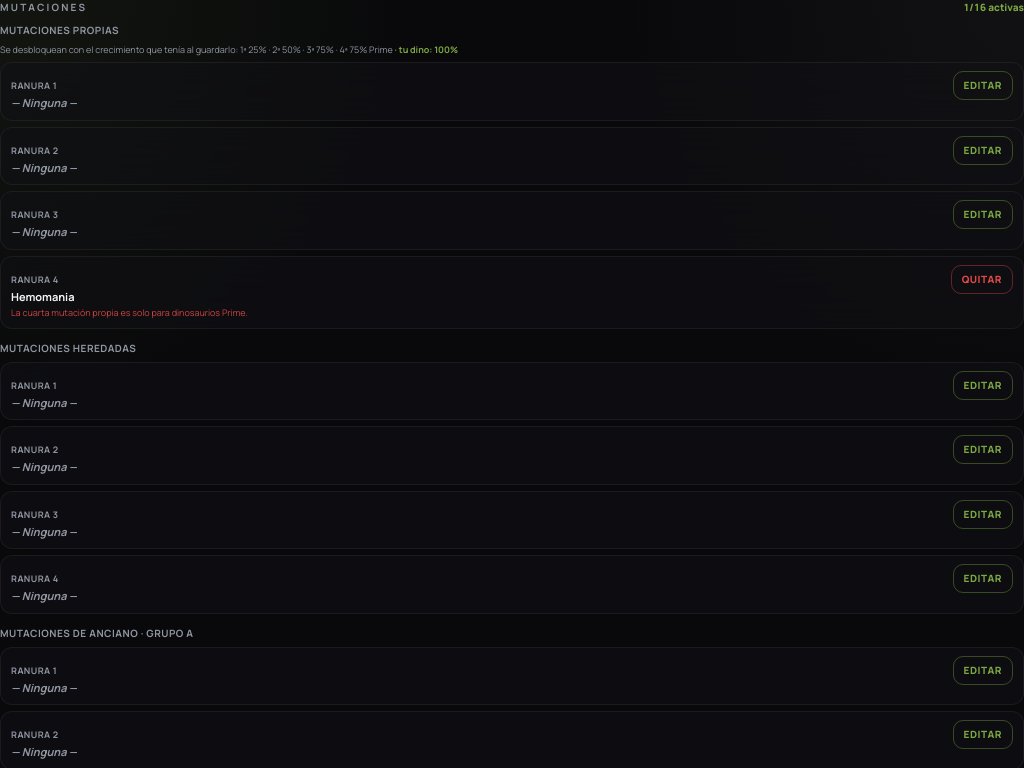
Test: removing a mutation from a closed slot asks first, on a control of its own › a double press arms and then backs out, and removes nothing
Click the button with test id "mutation-edit-n4" at (982, 279), box [951,265,1013,294]
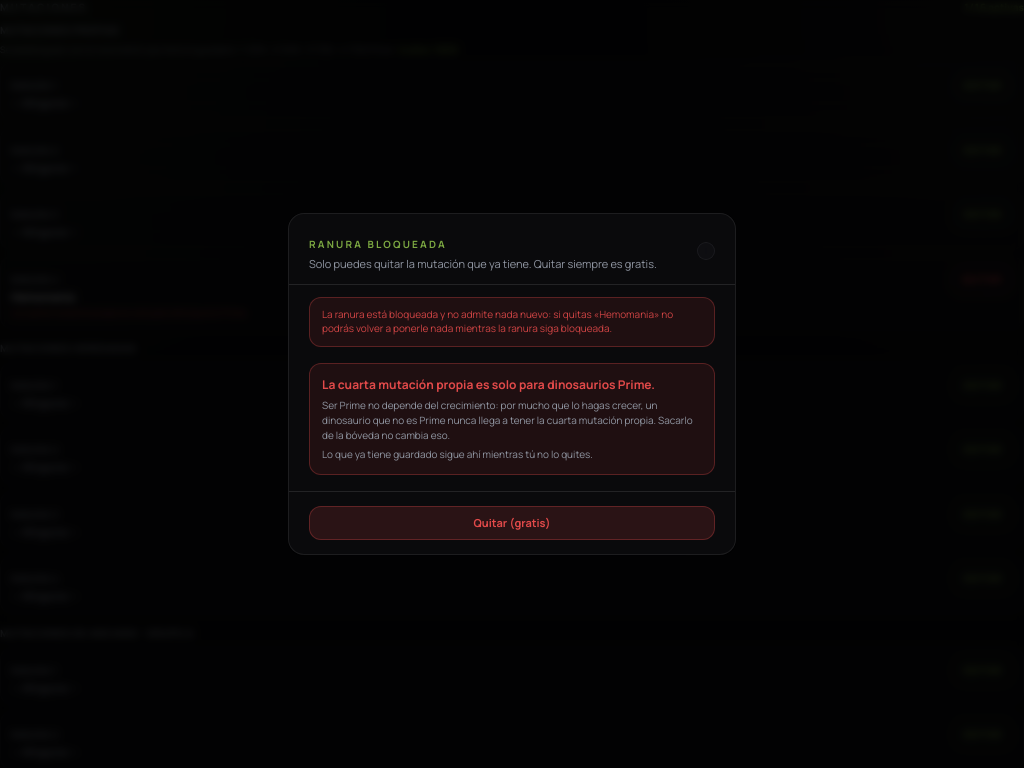
Click the button with test id "mutation-picker-clear" at (512, 523), box [309,506,715,540]
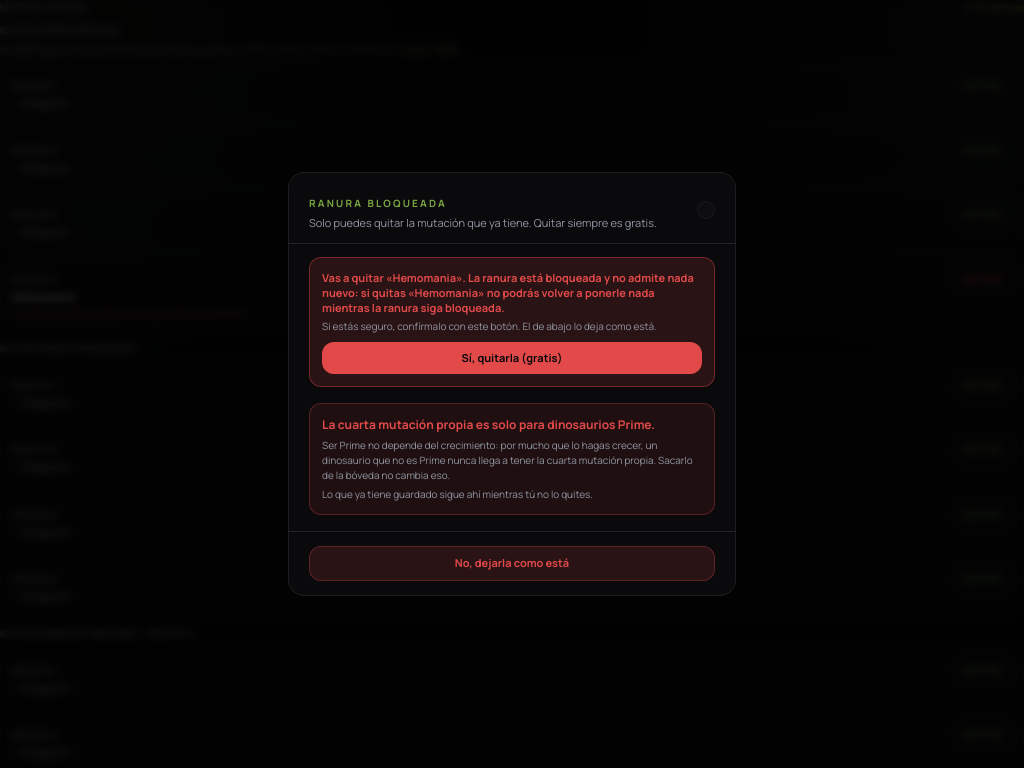
Expected: the element with test id "mutation-clear-warning" is shown, [309,257,715,388]
Click the button with test id "mutation-picker-clear" at (512, 564), box [309,546,715,581]
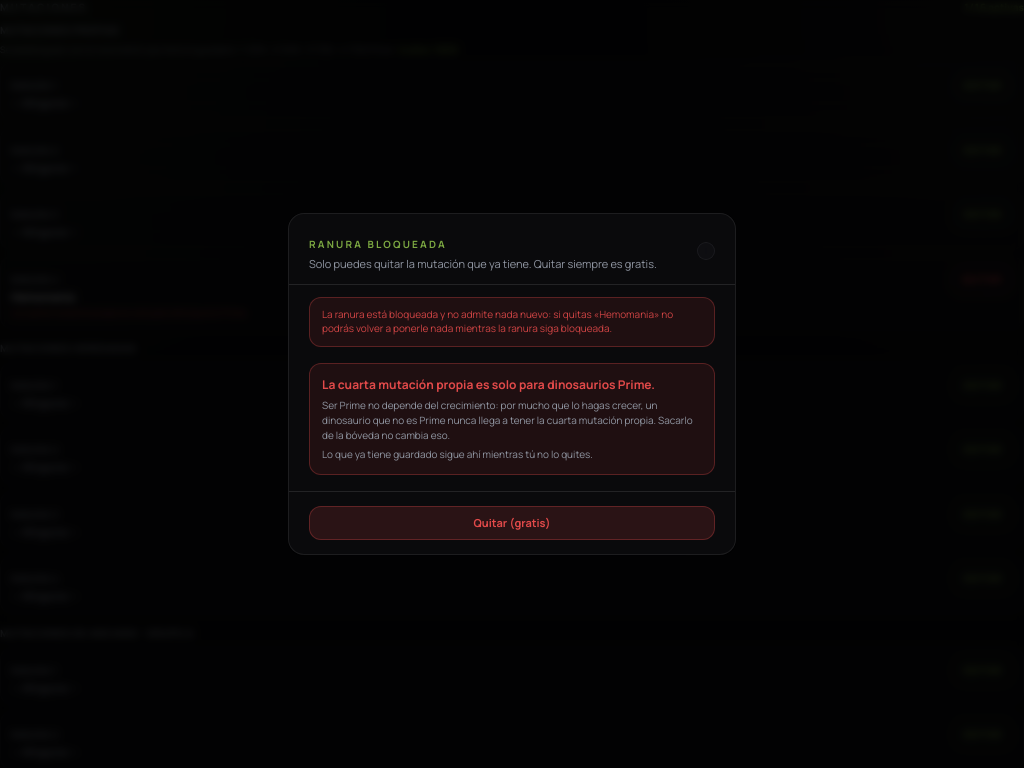
Expected: the element with test id "mutation-clear-warning" is gone
